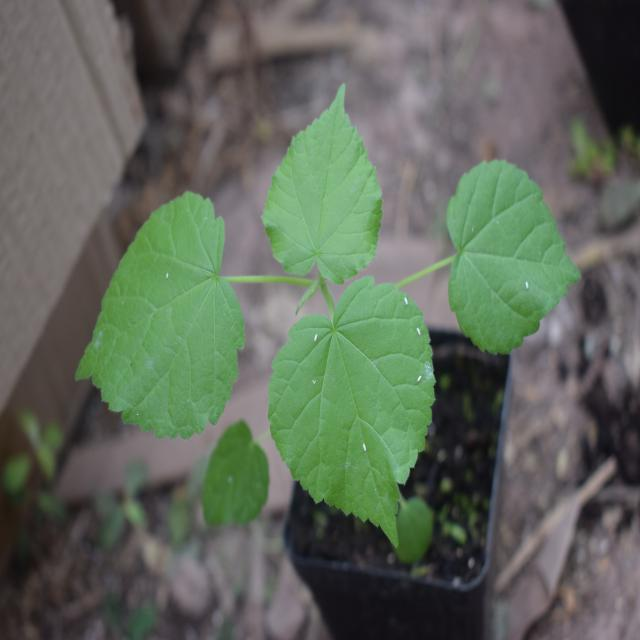abutilon theophrasti: (76, 74, 544, 548)
